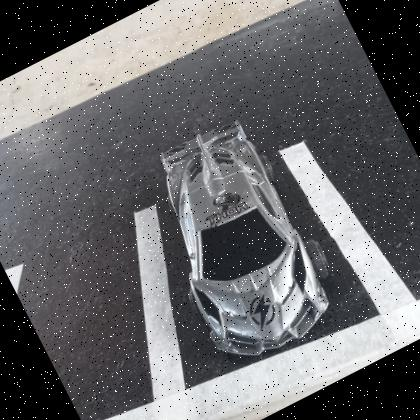Car: (161, 123, 331, 358)
